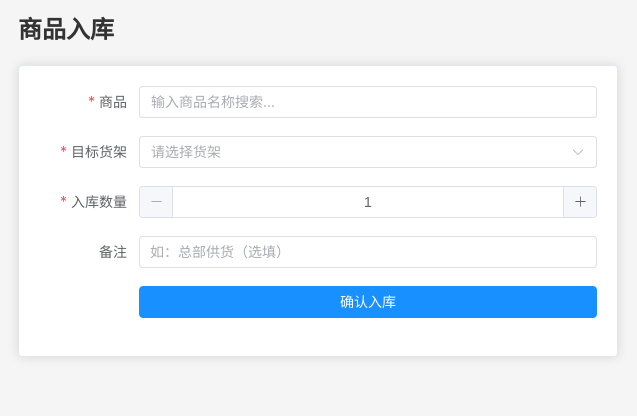
Scenario: StockIn.vue › shows error when submitting without product
Click the button "确认入库". click: (368, 302)
box: x1=139 y1=286 x2=597 y2=318
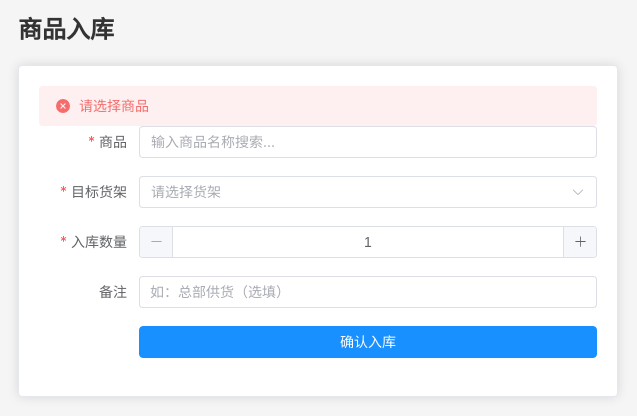
Expected: the text "请选择商品" is shown, x1=79 y1=94 x2=149 y2=118
